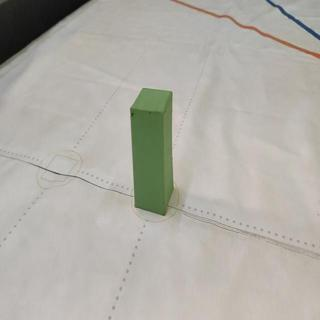greenbox: (128, 86, 176, 217)
